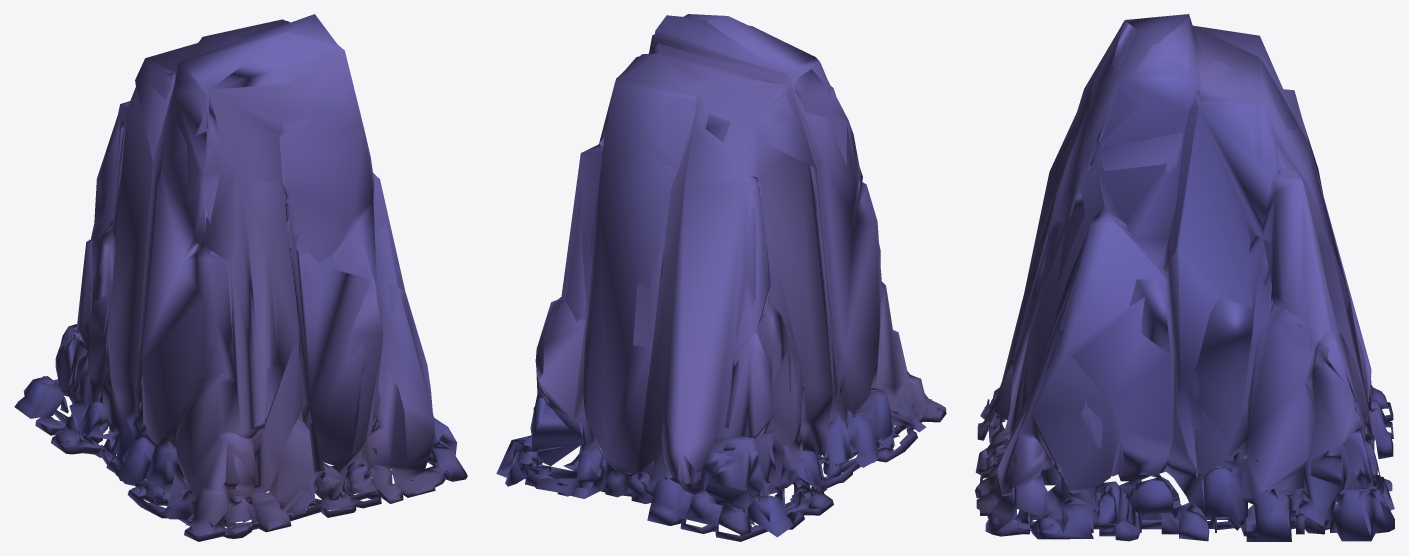
File: model.progressive.glb
3 renders of one model, left to right at view 1: azimuth 30°, elevation 25°; view 2: azimuth 150°, elevation 25°; view 3: azimuth 270°, elevation 25°, orthographic. The views are drawn at different scales.
Visible parts, largest first — view 1: Rock3; view 2: Rock3; view 3: Rock3.
Boxes of the visible parts, x1,y1,x2,y2 form: Rock3: (14, 14, 467, 541); Rock3: (496, 14, 946, 541); Rock3: (975, 14, 1394, 541).
Bounding box in the file's own units: 1.37 × 1.87 × 1.61.
Materials: 1 (1 with a texture image).
